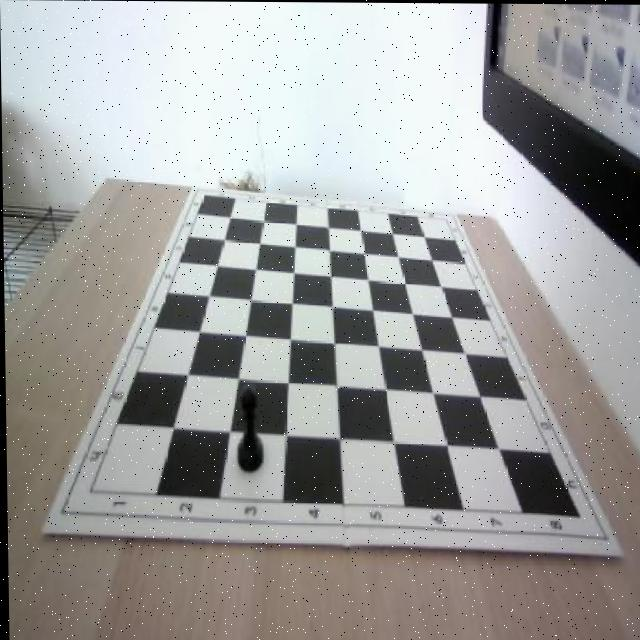black-knight: (237, 383, 262, 472)
